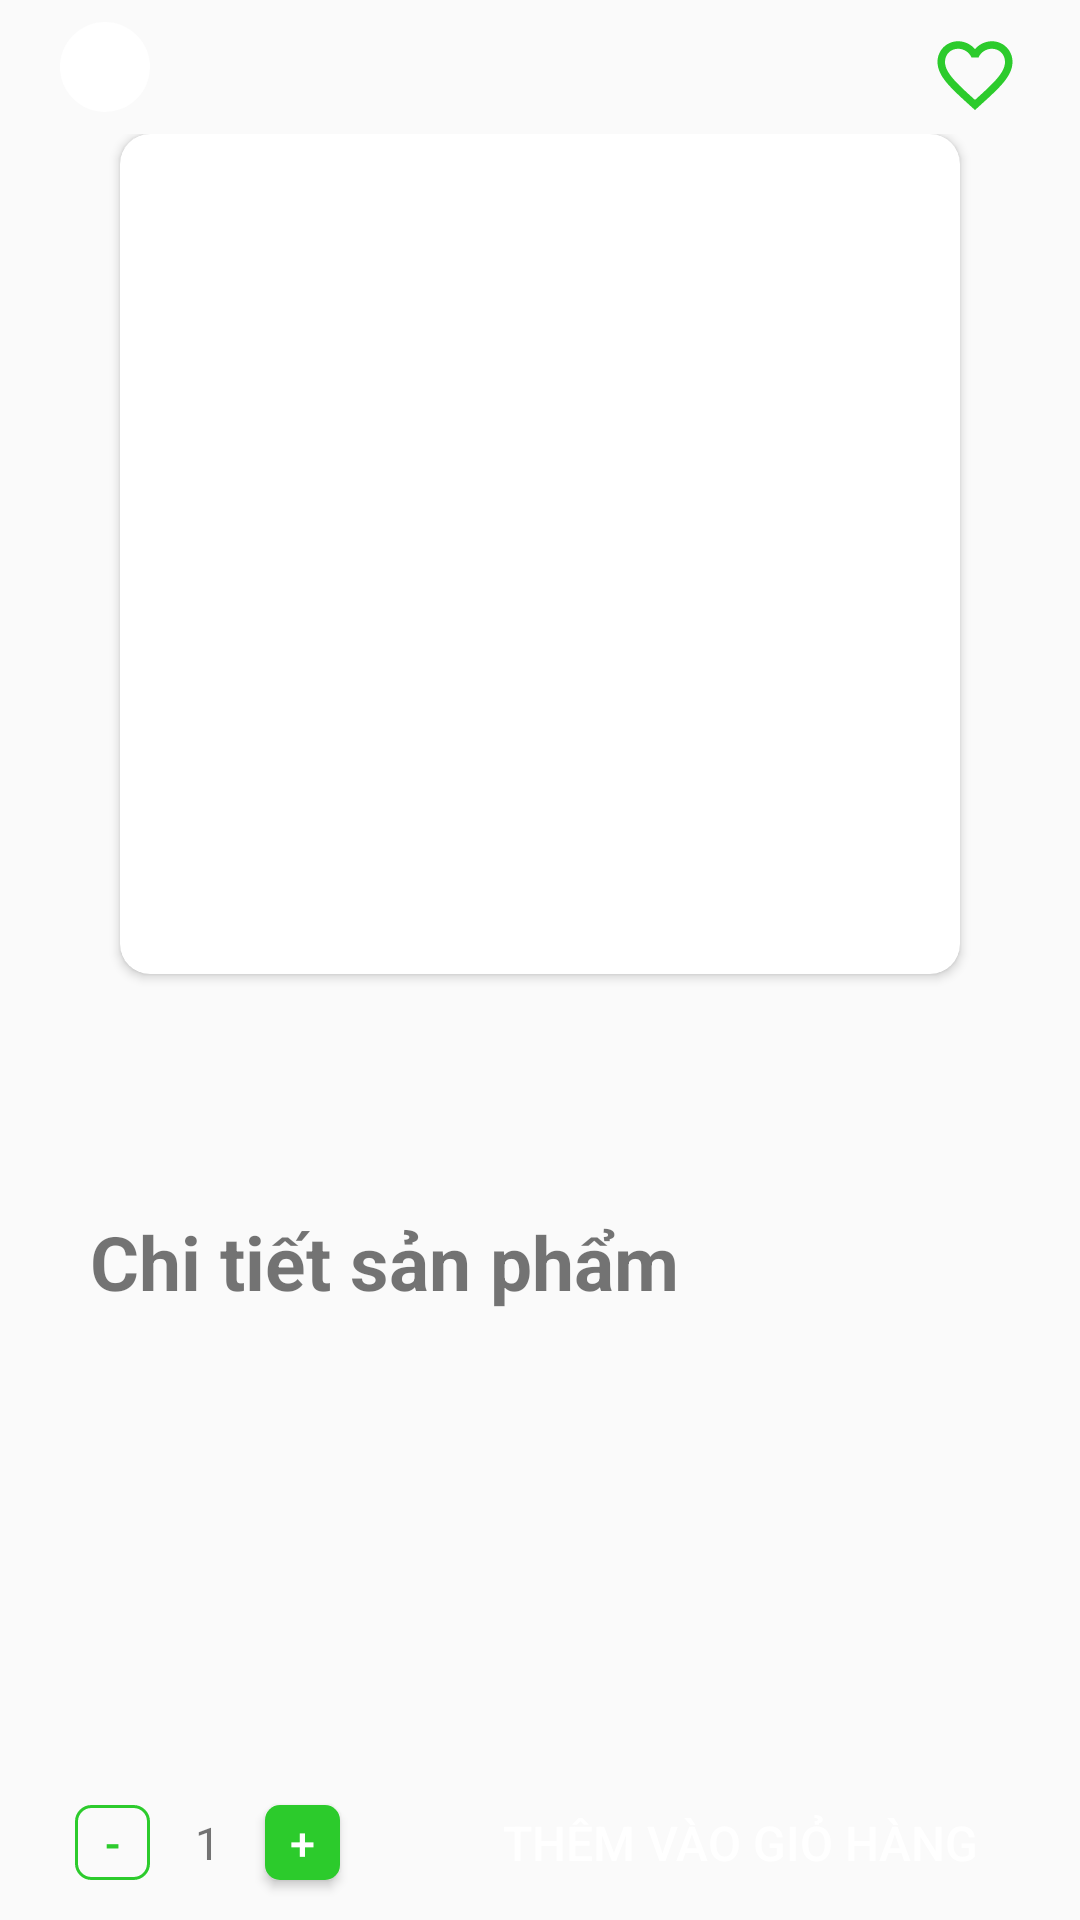

Icons on this 1080×1920 Android screen, each with the point to tap as (x=x, y=y):
favorite nofill: (x=975, y=75)
